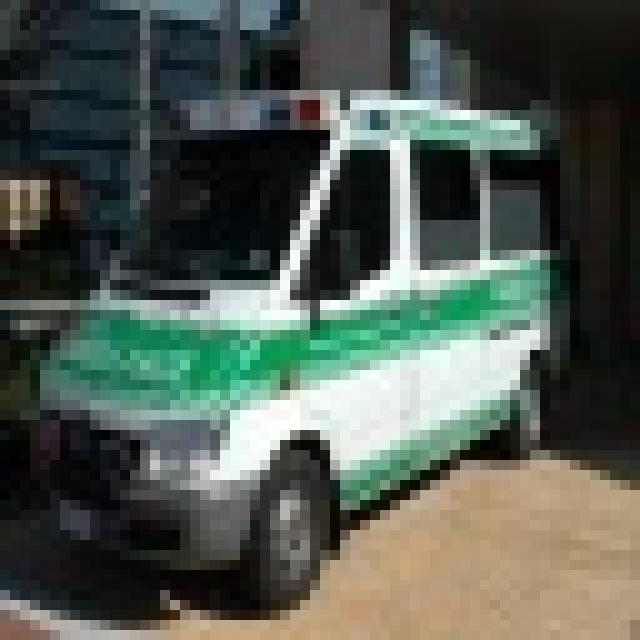Ambulance: (20, 80, 570, 600)
